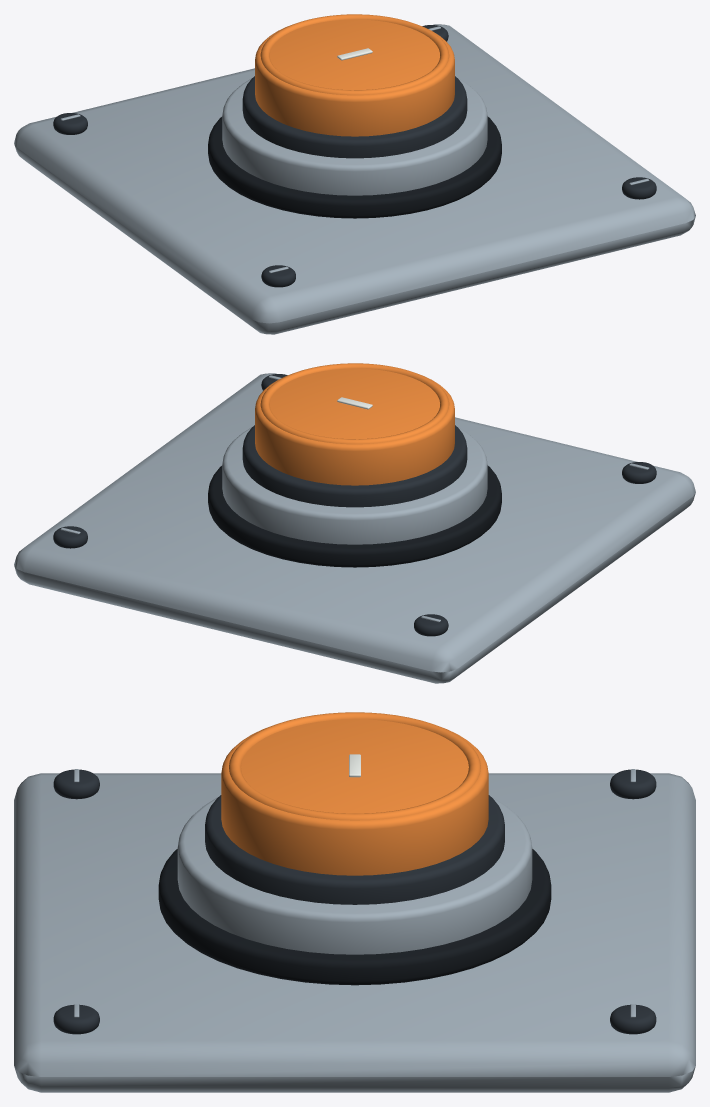
File: push.glb
3 renders of one model, top to bottom at view 1: azimuth 30°, elevation 25°; view 2: azimuth 150°, elevation 25°; view 3: azimuth 270°, elevation 25°, orthographic. The views are drawn at different scales.
Visible parts, largest first — view 1: push_mount, button plunger, button bezel, button gasket, button collar, cap edge, mount screw.014, mount screw.012, mount screw.013; view 2: push_mount, button plunger, button bezel, button gasket, button collar, cap edge, mount screw.015, mount screw.013, mount screw.012; view 3: push_mount, button plunger, button bezel, button gasket, button collar, cap edge, mount screw.014, mount screw.015, mount screw.012, mount screw.013.
Part boxes in pixels (x1,y1,x2,y2): push_mount: [14, 24, 695, 334]; button plunger: [255, 19, 454, 136]; button bezel: [222, 77, 487, 195]; button gasket: [208, 116, 501, 218]; button collar: [242, 76, 467, 158]; cap edge: [260, 14, 449, 95]; mount screw.014: [622, 177, 656, 199]; mount screw.012: [261, 265, 295, 287]; mount screw.013: [53, 113, 87, 134]; push_mount: [14, 373, 695, 683]; button plunger: [255, 368, 454, 485]; button bezel: [222, 426, 487, 544]; button gasket: [208, 465, 501, 567]; button collar: [242, 425, 467, 507]; cap edge: [260, 363, 449, 444]; mount screw.015: [53, 526, 87, 548]; mount screw.013: [414, 614, 448, 636]; mount screw.012: [622, 462, 656, 483]; push_mount: [14, 773, 695, 1092]; button plunger: [221, 719, 488, 875]; button bezel: [177, 797, 532, 954]; button gasket: [158, 849, 551, 985]; button collar: [205, 795, 504, 904]; cap edge: [229, 712, 480, 820]; mount screw.014: [53, 1004, 99, 1034]; mount screw.015: [610, 1004, 656, 1034]; mount screw.012: [53, 769, 99, 799]; mount screw.013: [610, 769, 656, 799].
Size of the model in its own units: 2.5 by 0.785 by 2.5.
